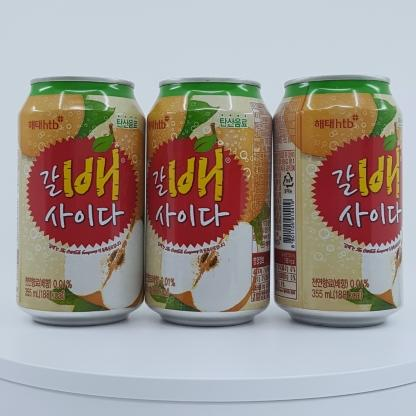-------355ML: (273, 74, 403, 327), (16, 76, 145, 326), (145, 77, 272, 326)
